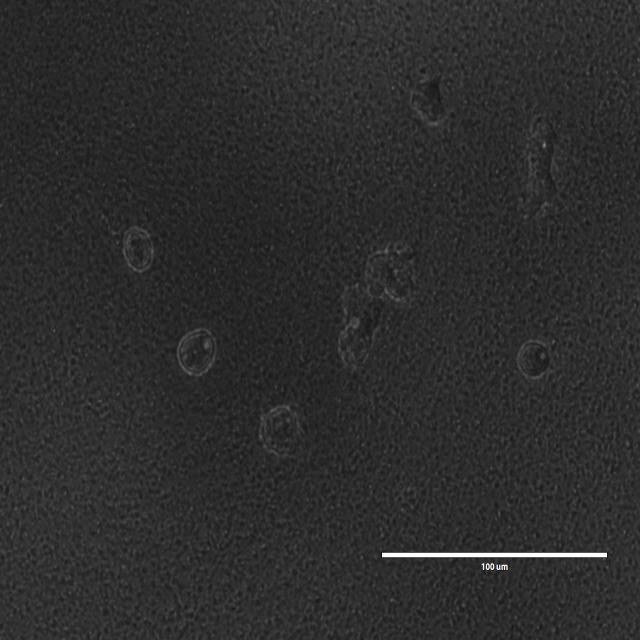Amoeba: (332, 284, 382, 370), (364, 242, 422, 304), (527, 120, 559, 220), (408, 75, 454, 126), (260, 407, 300, 456), (179, 331, 216, 376), (516, 337, 551, 383), (122, 228, 156, 271)
